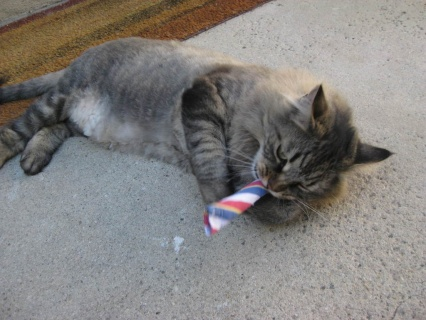Cat: (0, 36, 401, 230)
